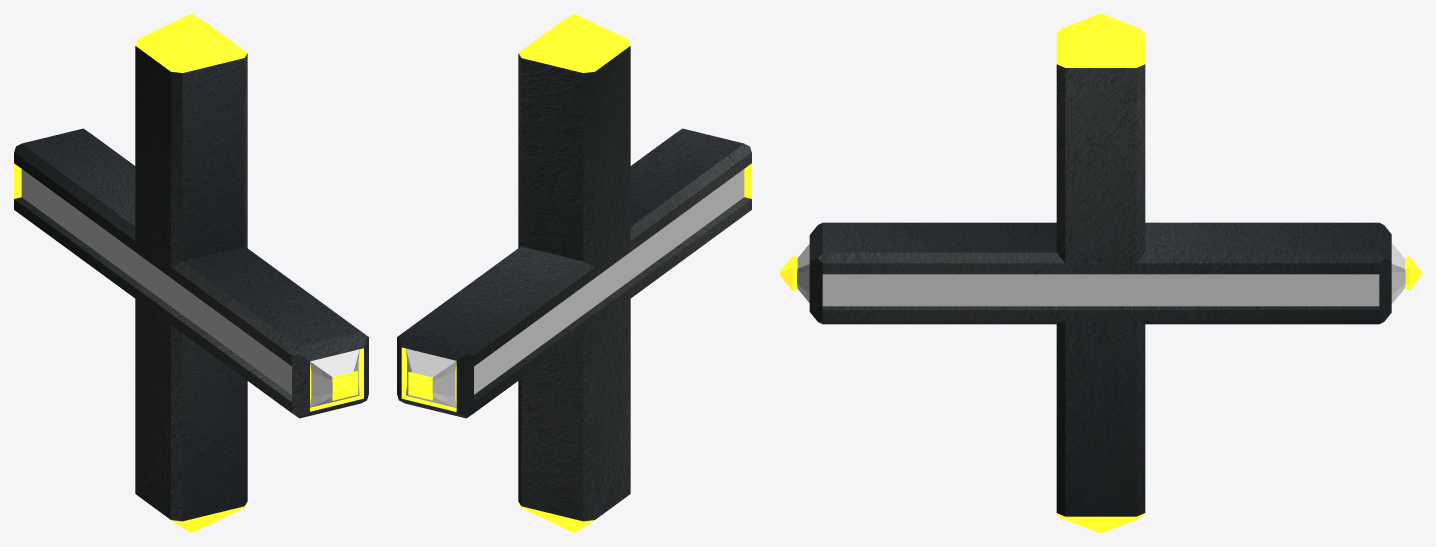
Rendered from new rotating obs.fbx.
3 renders of one model, left to right at view 1: azimuth 30°, elevation 25°; view 2: azimuth 150°, elevation 25°; view 3: azimuth 270°, elevation 25°, orthographic.
Parts seen in each view (by area): view 1: Cube; view 2: Cube; view 3: Cube.
Part boxes in pixels (<box>): Cube: <box>14,14,368,532</box>; Cube: <box>397,14,751,532</box>; Cube: <box>780,14,1421,532</box>.
Bounding box in the file's own units: 0.542 × 3.49 × 3.92.
